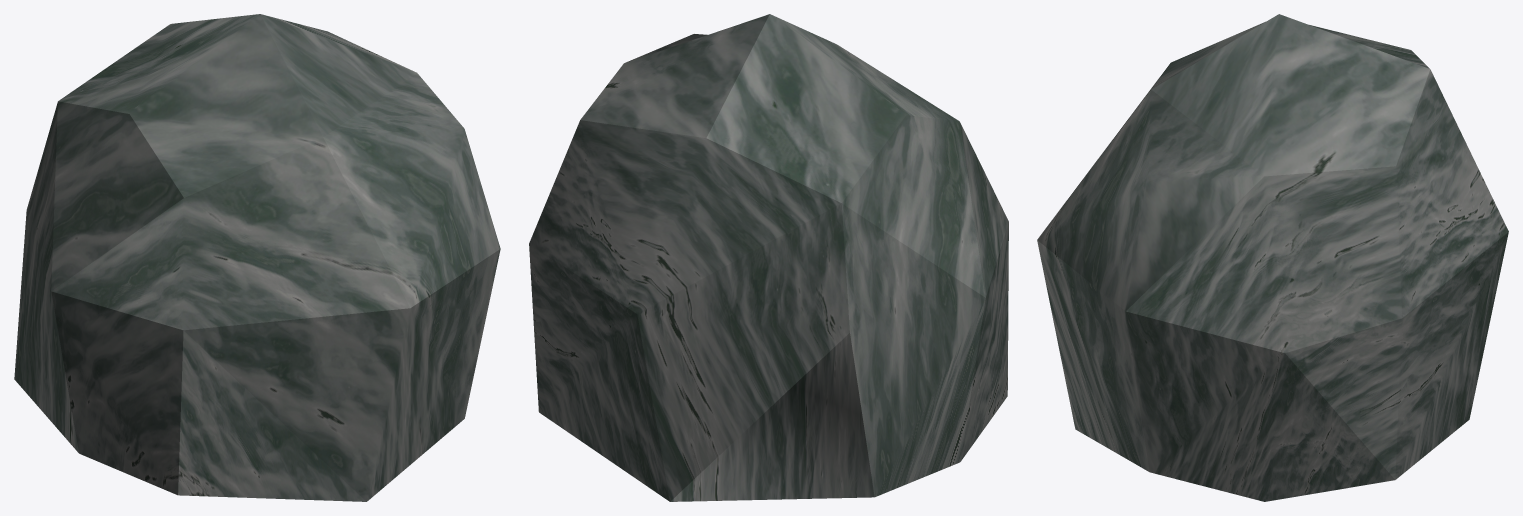
Rendered from rock.fbx.
3 views of the same model, side by side, from view 1: azimuth 30°, elevation 25°; view 2: azimuth 150°, elevation 25°; view 3: azimuth 270°, elevation 25° (orthographic). The views are drawn at different scales.
Visible parts, largest first — view 1: Cube; view 2: Cube; view 3: Cube.
Part boxes in pixels (x1=…): Cube: x1=14, y1=14, x2=500, y2=501; Cube: x1=529, y1=14, x2=1008, y2=501; Cube: x1=1037, y1=14, x2=1508, y2=501.
Size of the model in its own units: 99 by 98 by 99.
